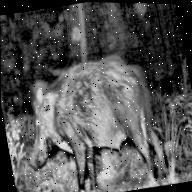boar: (8, 56, 169, 192)
